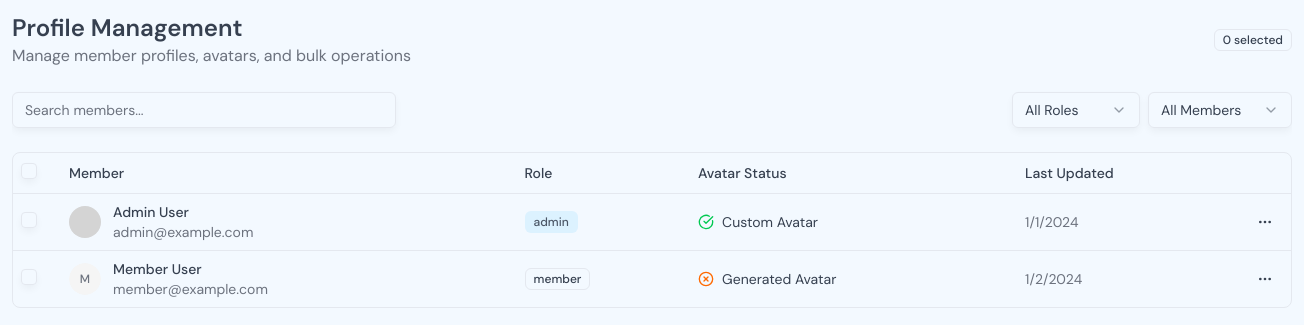
AdminProfileManager › filters members by search query
The width and height of the screenshot is (1304, 325).
In the field with placeholder "Search members...": (204, 110) [12,92,396,128], type "admin"
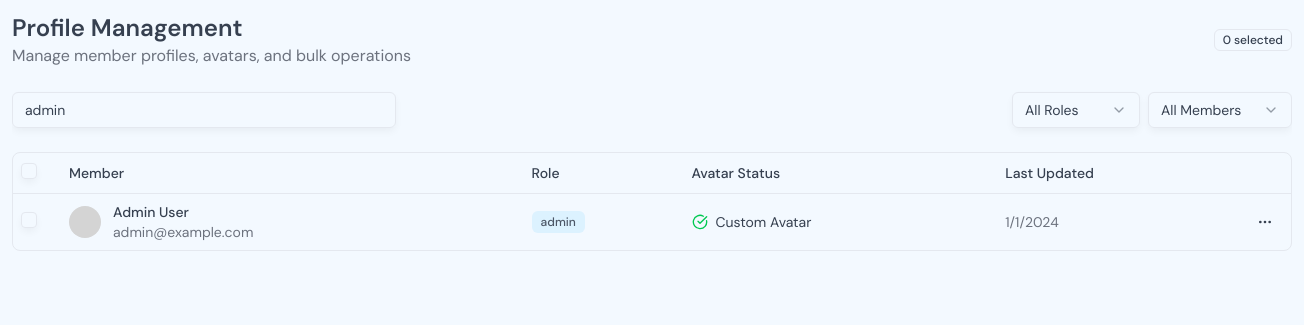
Expected: the text "Admin User" is shown, [113,202,189,220]
Expected: the text "Member User" is gone
